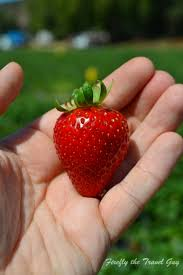ripe: (50, 96, 130, 199)
